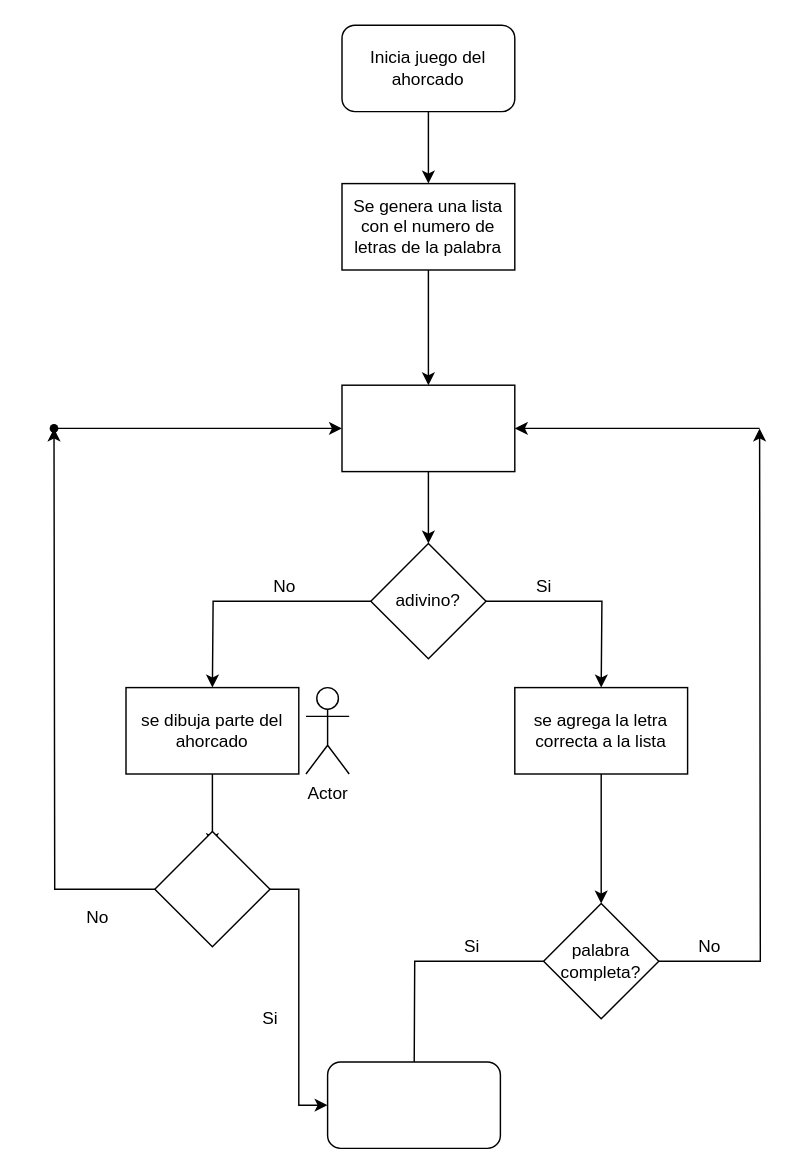
This 798x1174 diagram has some shape labels left out. The shapes that lost their labels are listed below. From the top down, each one's centre as x and y in pixels, then its label:
At point (428, 428): "input: pregunta por letra".
At point (211, 888): "Ahorcado completo?".
At point (413, 1104): "Fin del juego".
